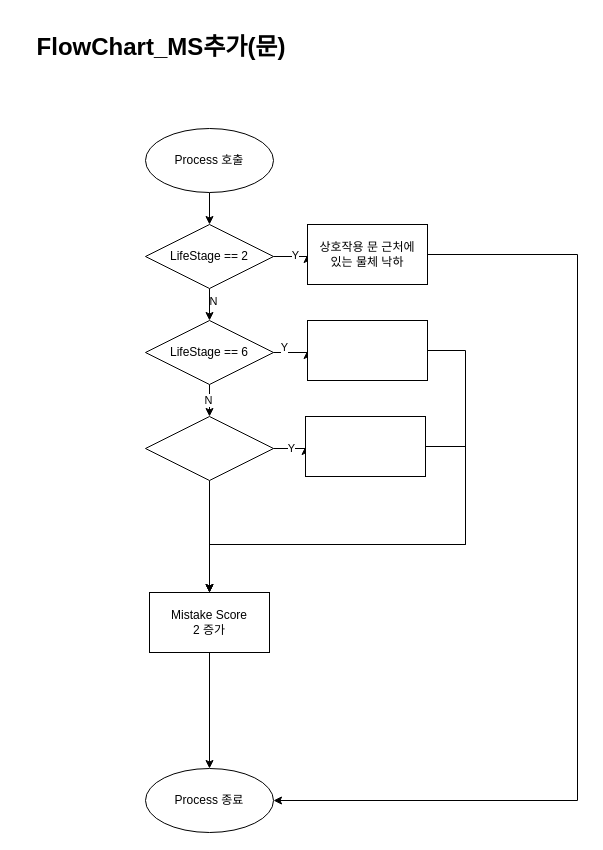
This 603x850 diagram has some shape labels left out. The centre of each missing label's shape, as x and y in pixels:
"LifeStage = = 9" goes at point 209,448.
"가짜문이 Player를 공격함" goes at point 365,446.
"공포공간 활성화 실수시 이면세계로 전이" goes at point 367,350.
